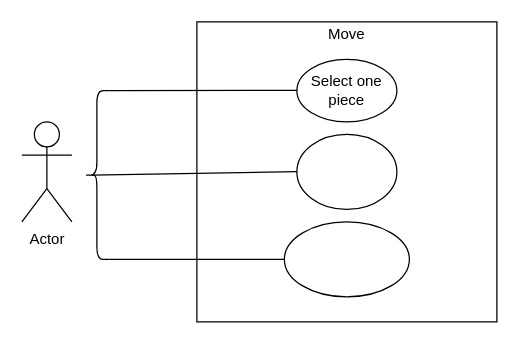
Some shapes in this 519 by 344 pixel diagram are drawn without their labels. The shapes that lost their labels are listed below. From the top down, each one's centre as x and y in pixels, then its label:
At (346,171): "Choose left or right diagonal square".
At (346,259): "Remove piece from initial position and place on chosen square".
